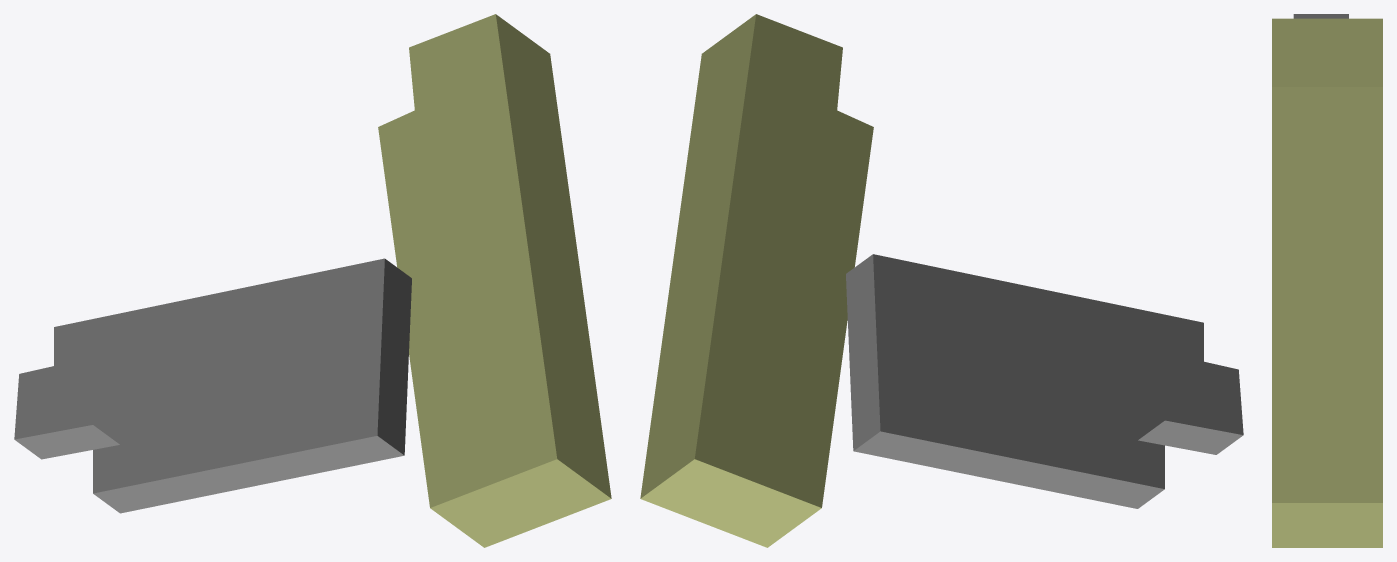
3 views of the same model, side by side, from view 1: azimuth 30°, elevation 25°; view 2: azimuth 150°, elevation 25°; view 3: azimuth 270°, elevation 25° (orthographic).
Visible parts, largest first — view 1: 0_1_2_0_3_1_1_2; view 2: 0_1_2_0_3_1_1_2; view 3: 0_1_2_0_3_1_1_2.
Part boxes in pixels (left/top/right/bottom): 0_1_2_0_3_1_1_2: left=14, top=14, right=611, bottom=547; 0_1_2_0_3_1_1_2: left=640, top=14, right=1243, bottom=547; 0_1_2_0_3_1_1_2: left=1272, top=14, right=1382, bottom=547.
Bounding box in the file's own units: 35.62 × 29.08 × 6.
